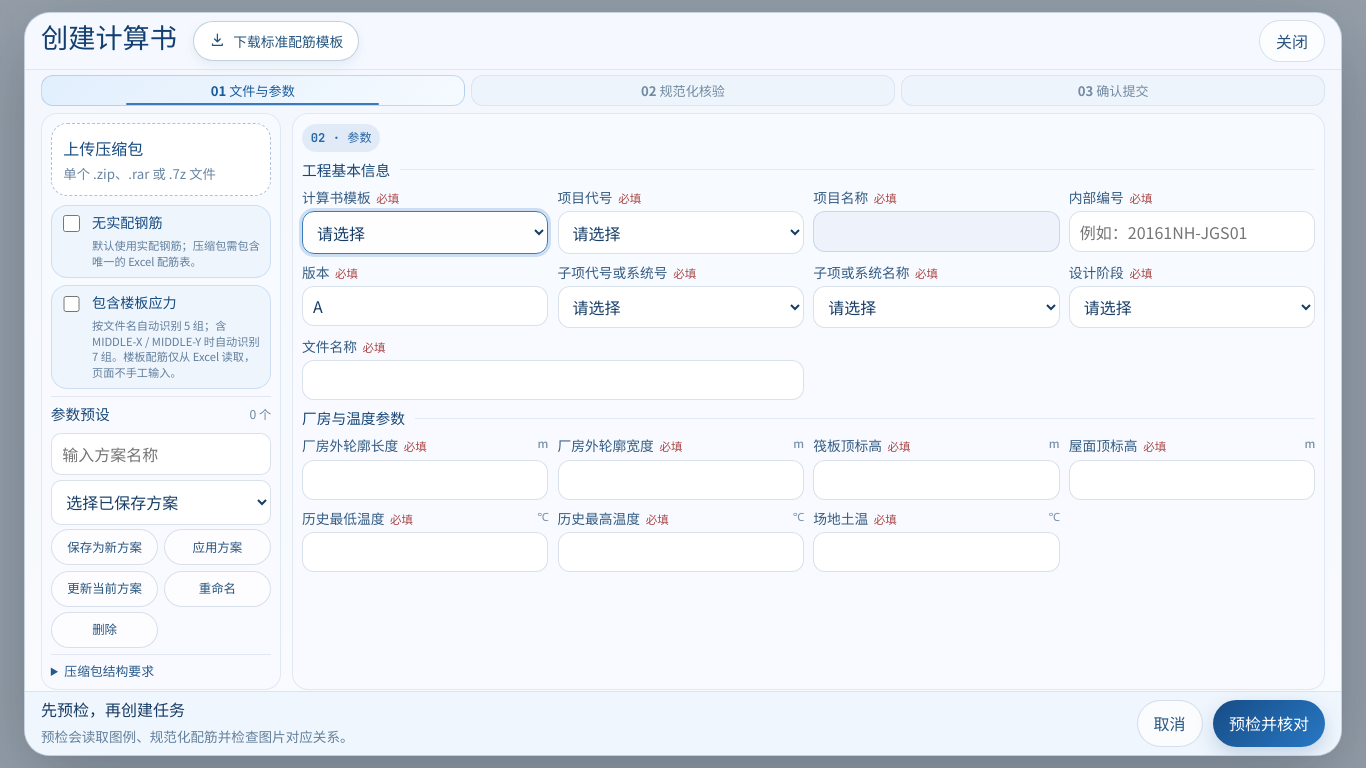
CalculationBookWorkspace › ignores a pending template download resolve after the workspace closes
Click the button "下载标准配筋模板".
click(276, 41)  # box [193,21,359,61]
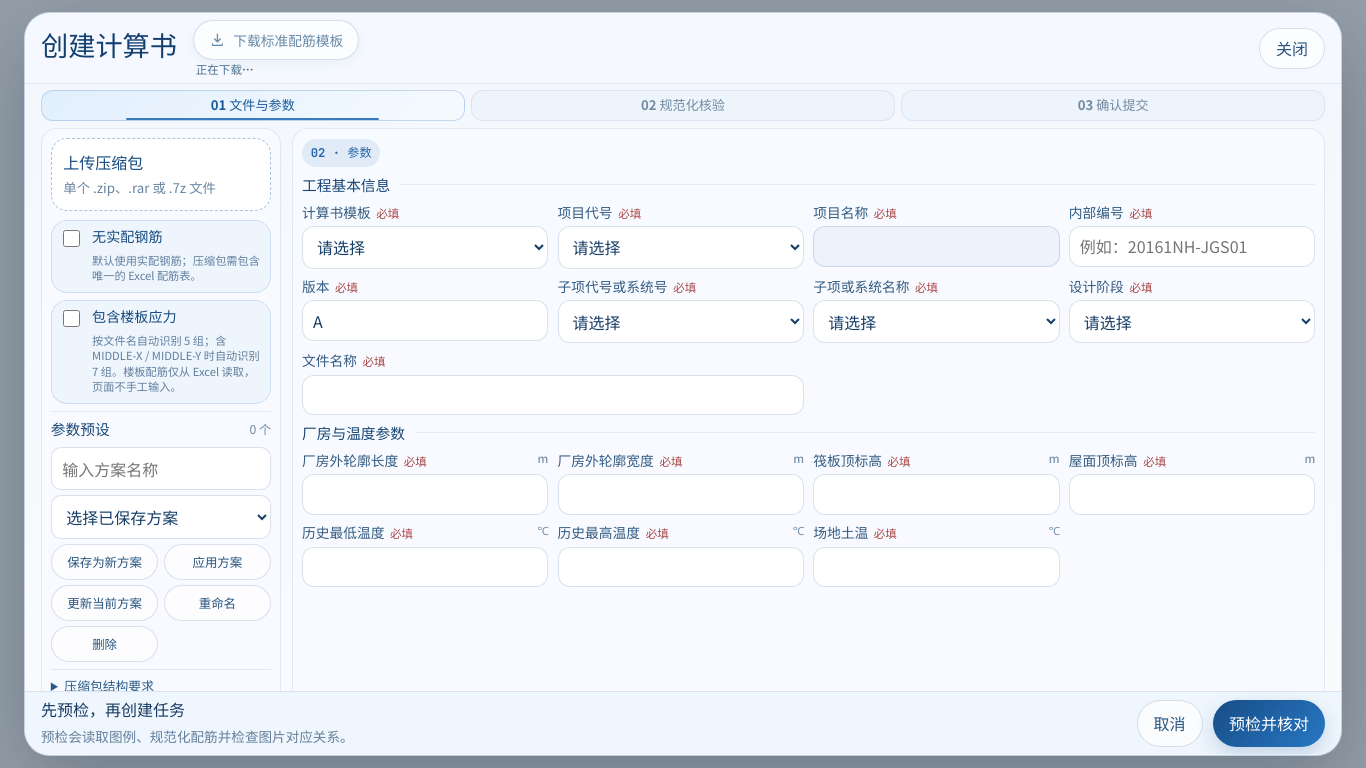
Expected: the button "下载标准配筋模板" is disabled, [193,20,359,60]
